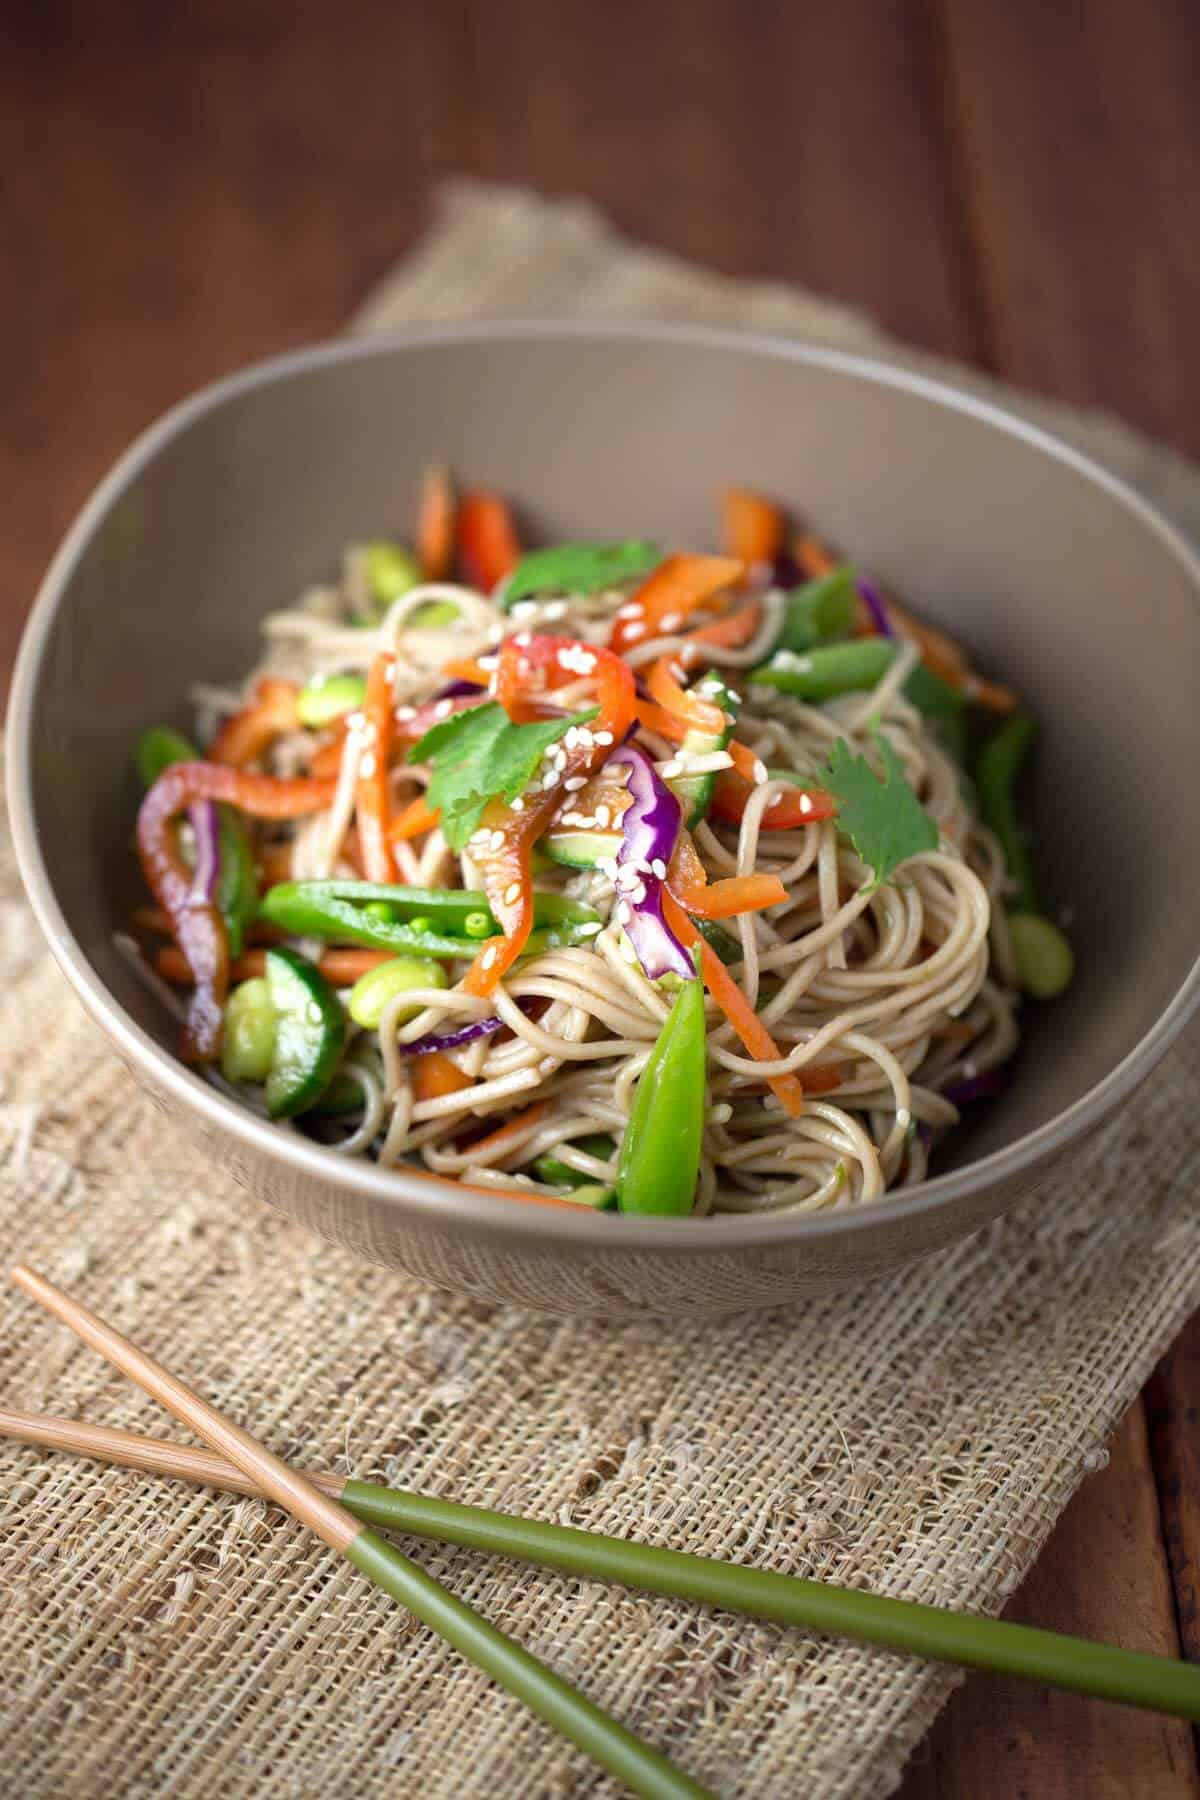Soba: (145, 508, 1071, 1217)
